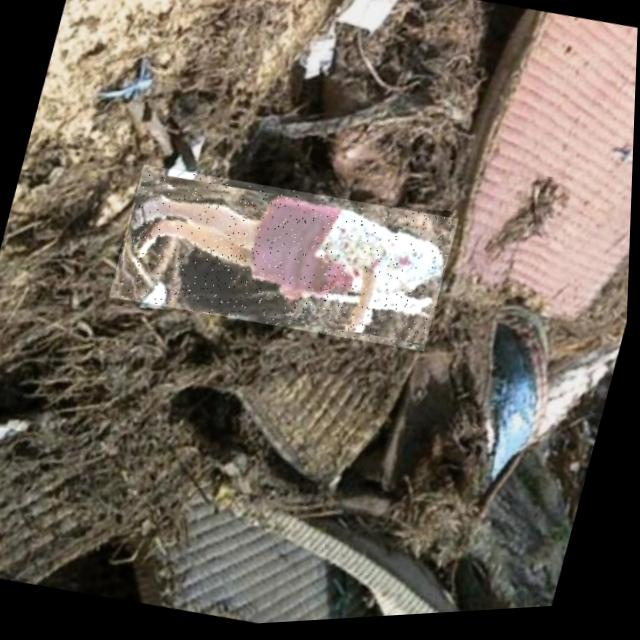Person in Rubble: (108, 151, 461, 371)
